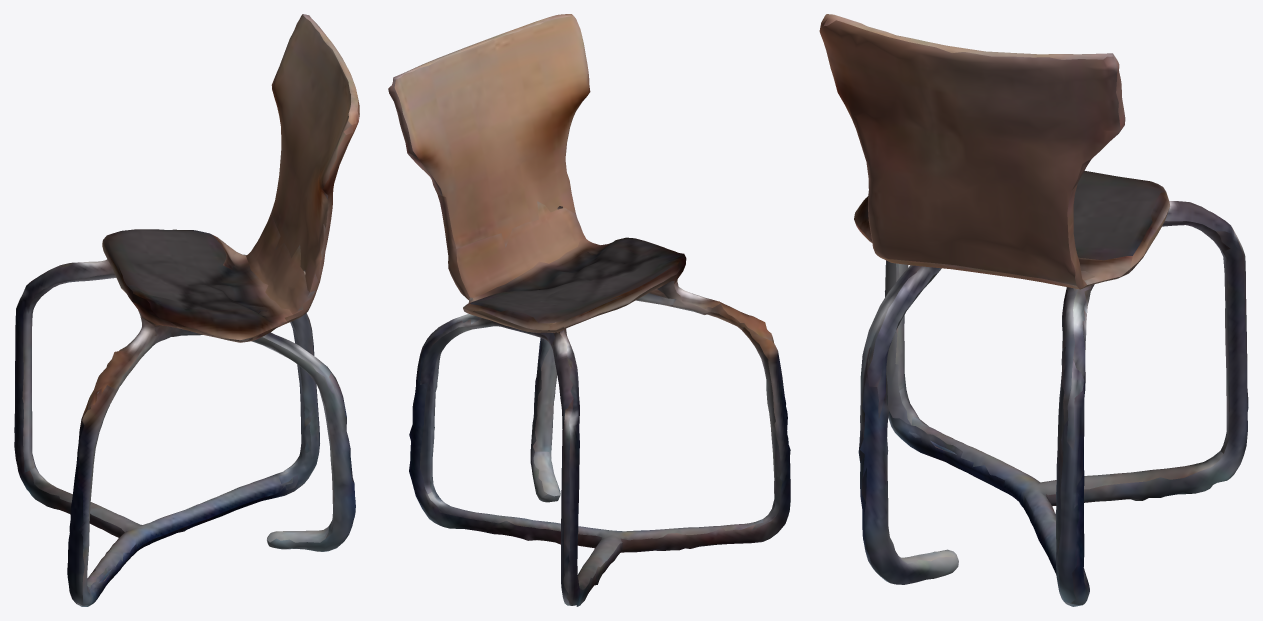
3 views of the same model, side by side, from view 1: azimuth 30°, elevation 25°; view 2: azimuth 150°, elevation 25°; view 3: azimuth 270°, elevation 25° (orthographic). The views are drawn at different scales.
Visible parts, largest first — view 1: world; view 2: world; view 3: world.
Boxes of the visible parts, left/top/right/bottom form: world: left=14, top=14, right=359, bottom=606; world: left=388, top=14, right=790, bottom=606; world: left=819, top=14, right=1248, bottom=606.
Bounding box in the file's own units: 0.3289 × 0.4444 × 0.3017.
1 material, 1 textured.
